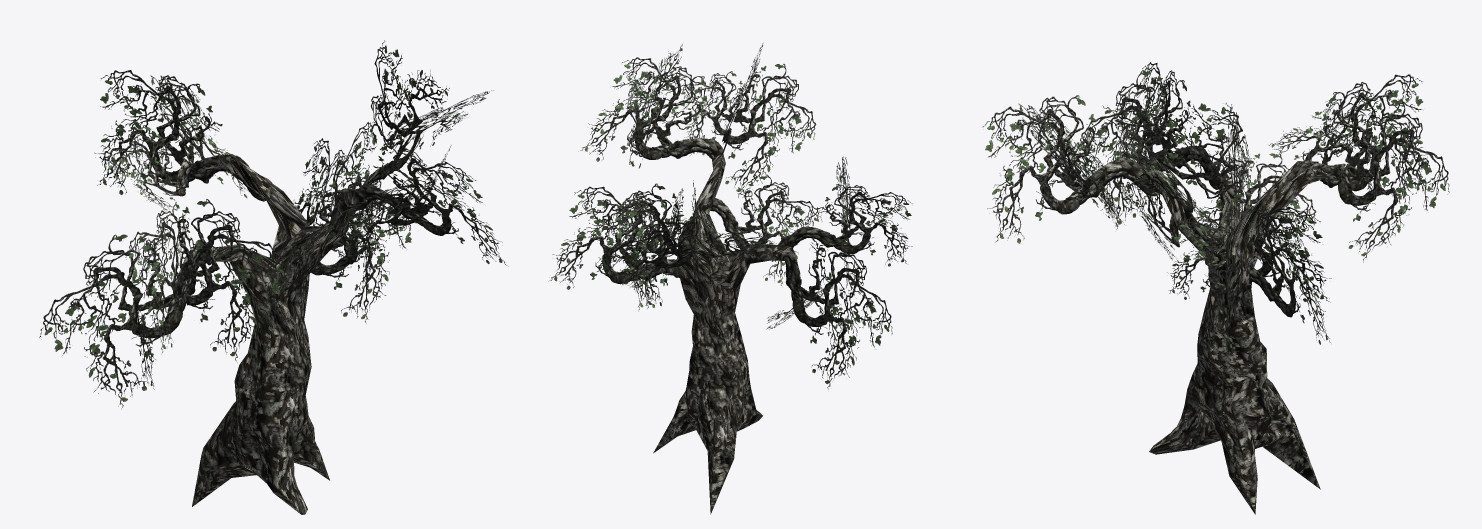
Rendered from decd_dath_azerontree_l0.fbx.
The picture shows the model from 3 angles, left to right: view 1: azimuth 30°, elevation 25°; view 2: azimuth 150°, elevation 25°; view 3: azimuth 270°, elevation 25°; orthographic projection. The views are drawn at different scales.
Visible parts, largest first — view 1: mesh_node; view 2: mesh_node; view 3: mesh_node.
Boxes of the visible parts, x1,y1,x2,y2 form: mesh_node: [39, 40, 508, 514]; mesh_node: [548, 43, 912, 514]; mesh_node: [982, 62, 1449, 514].
Size of the model in its own units: 25.35 by 27.07 by 26.09.
Materials: 3 (3 with a texture image).
